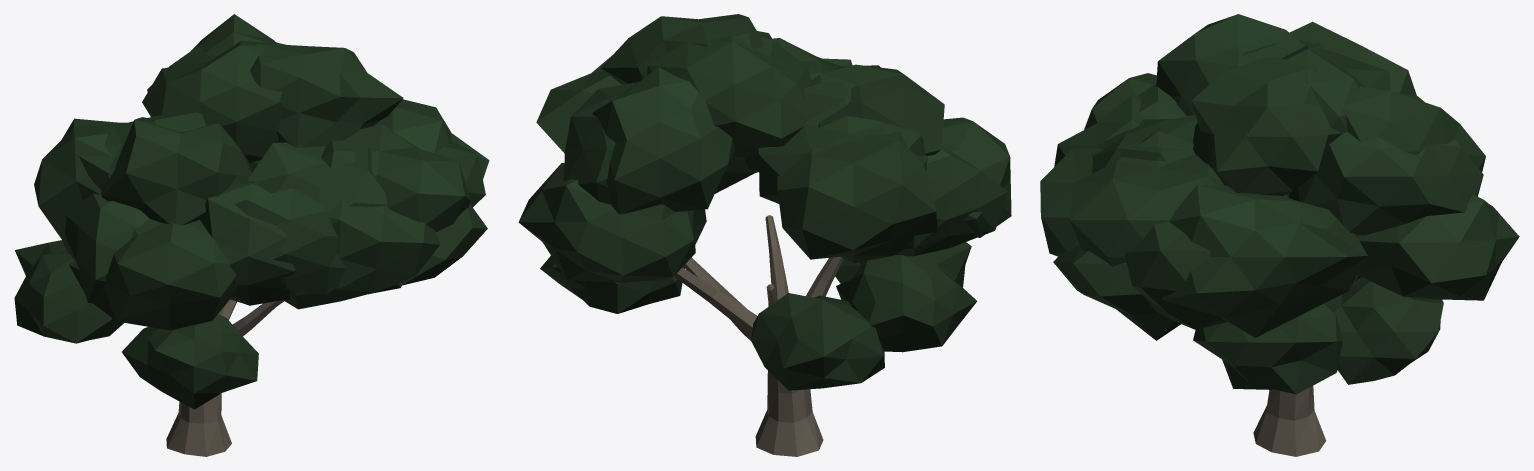
File: macrocarpa.glb
3 views of the same model, side by side, from view 1: azimuth 30°, elevation 25°; view 2: azimuth 150°, elevation 25°; view 3: azimuth 270°, elevation 25° (orthographic). The views are drawn at different scales.
Visible parts, largest first — view 1: macrocarpa; view 2: macrocarpa; view 3: macrocarpa.
Part boxes in pixels (x1,y1,x2,y2): macrocarpa: (14, 14, 489, 456); macrocarpa: (518, 14, 1011, 456); macrocarpa: (1040, 14, 1519, 456).
Bounding box in the file's own units: 19.81 × 17.39 × 18.1.
